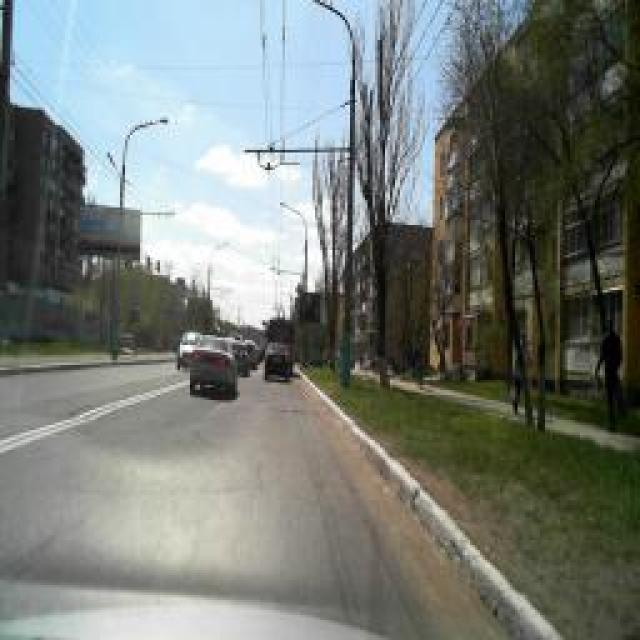sign: (296, 282, 304, 298)
